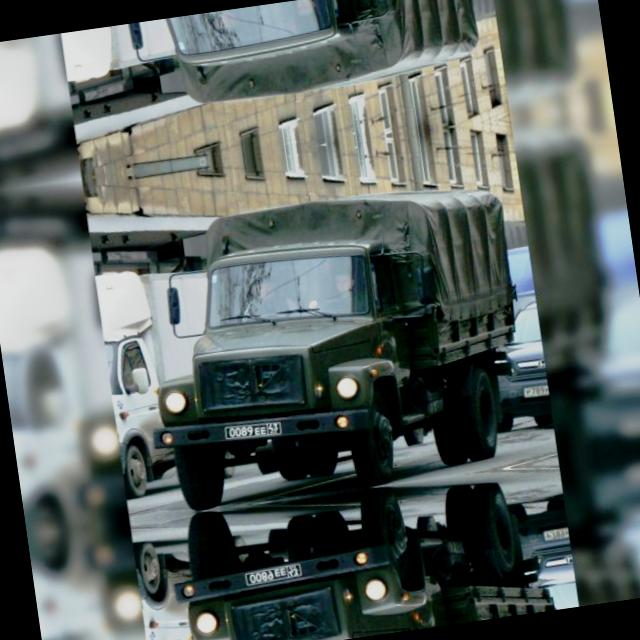military: (242, 558, 306, 590), (222, 415, 286, 446)
